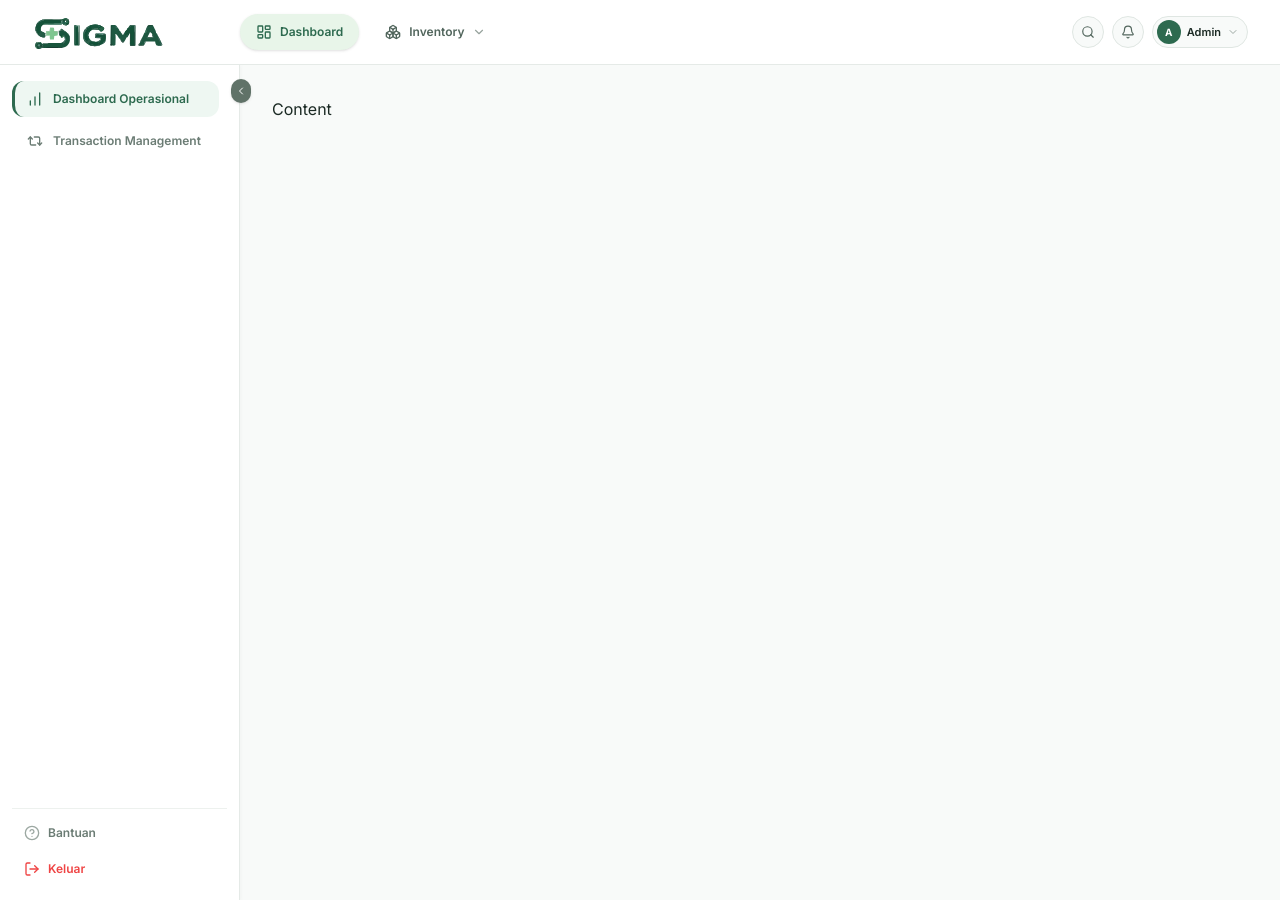
Test: AppShell Component (OpenBoxes Style) › opens one accessible feature mega-menu with grouped destinations
Click the button "Inventory" at x=436, y=32, box x1=369 y1=14 x2=502 y2=50
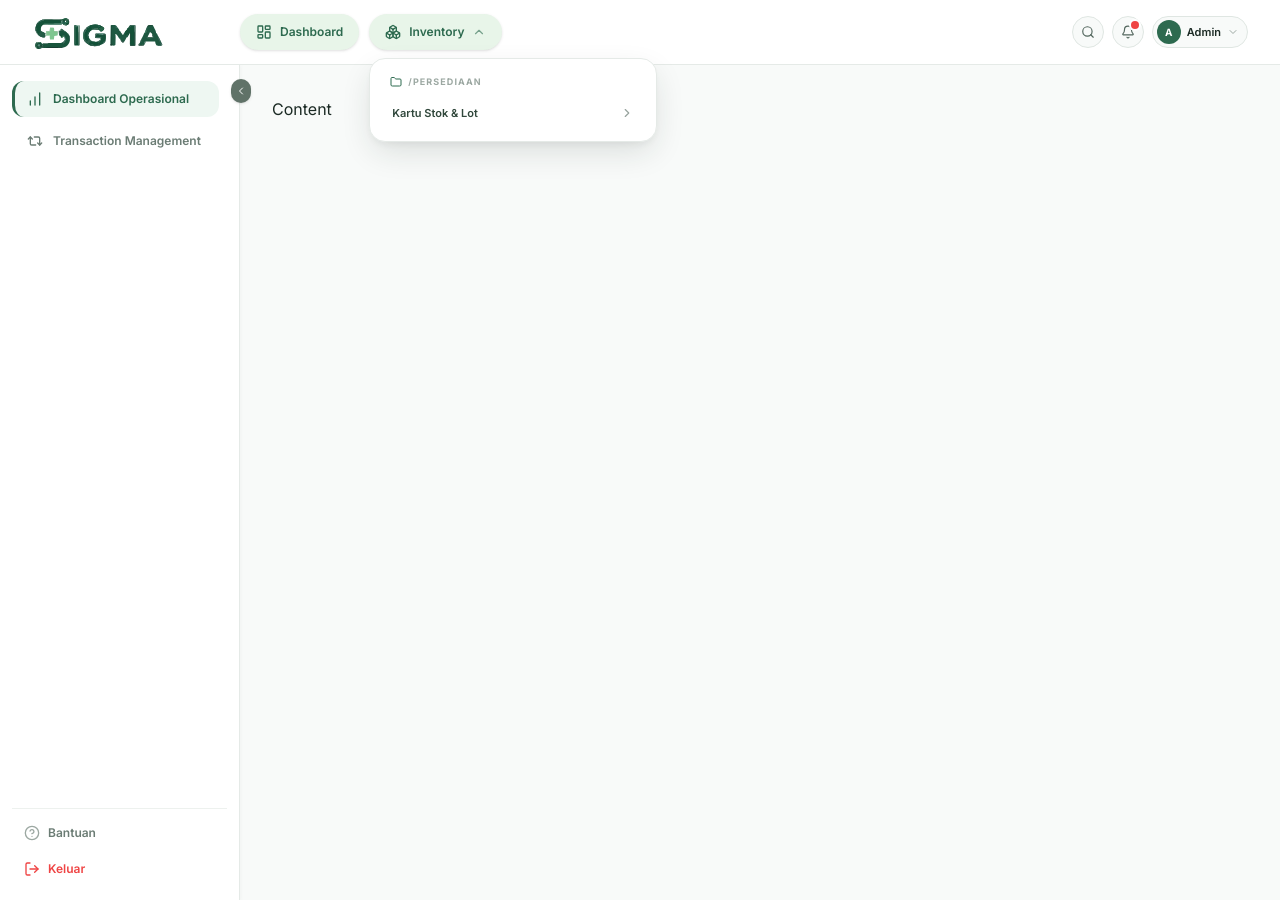
Expected: the button "Inventory" is expanded, x1=369 y1=14 x2=502 y2=50
